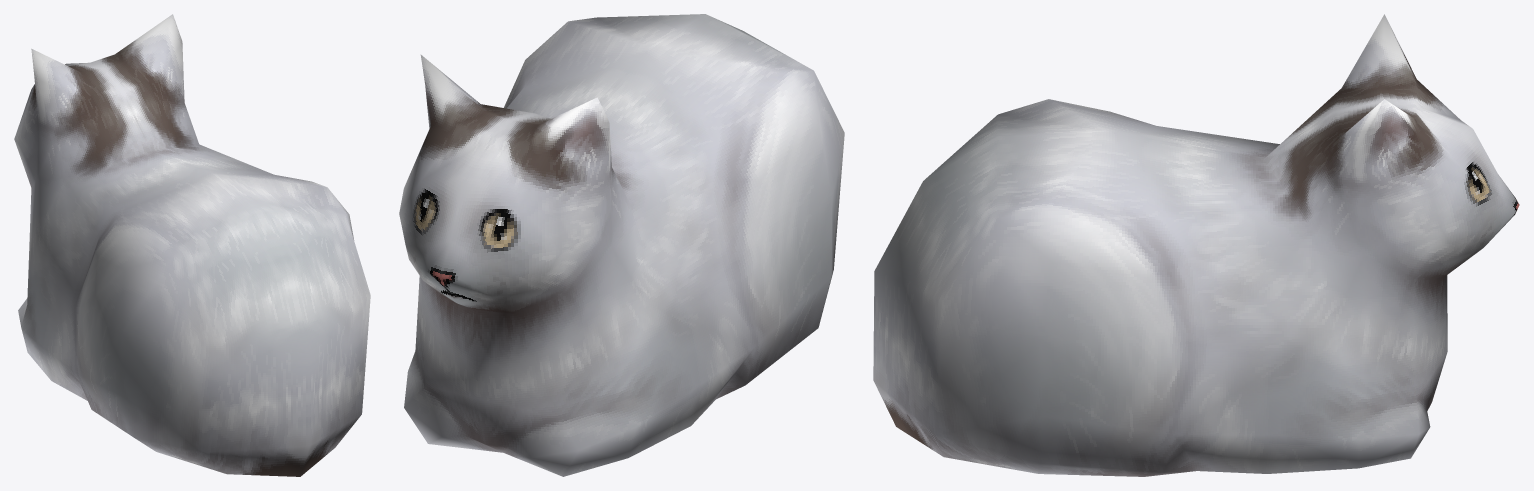
The model's file is CatLoafWhite256.glb.
3 renders of one model, left to right at view 1: azimuth 30°, elevation 25°; view 2: azimuth 150°, elevation 25°; view 3: azimuth 270°, elevation 25°, orthographic. The views are drawn at different scales.
Visible parts, largest first — view 1: CatLoafWhite256; view 2: CatLoafWhite256; view 3: CatLoafWhite256.
Boxes of the visible parts, box(x1,y1,x2,y2) form: CatLoafWhite256: box(14, 14, 370, 476); CatLoafWhite256: box(399, 14, 844, 476); CatLoafWhite256: box(873, 14, 1519, 476).
Size of the model in its own units: 0.2077 by 0.2561 by 0.3957.
Materials: 1 (1 with a texture image).
